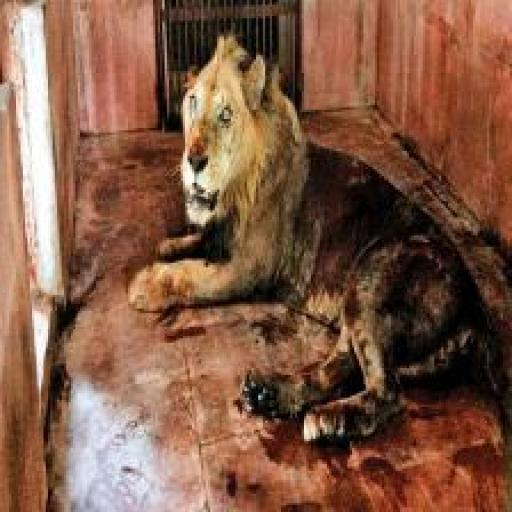lion: (128, 30, 497, 444)
